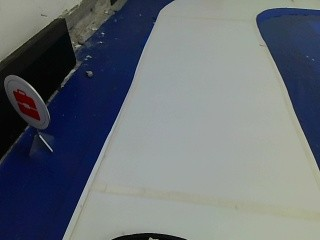company: (2, 73, 50, 131)
